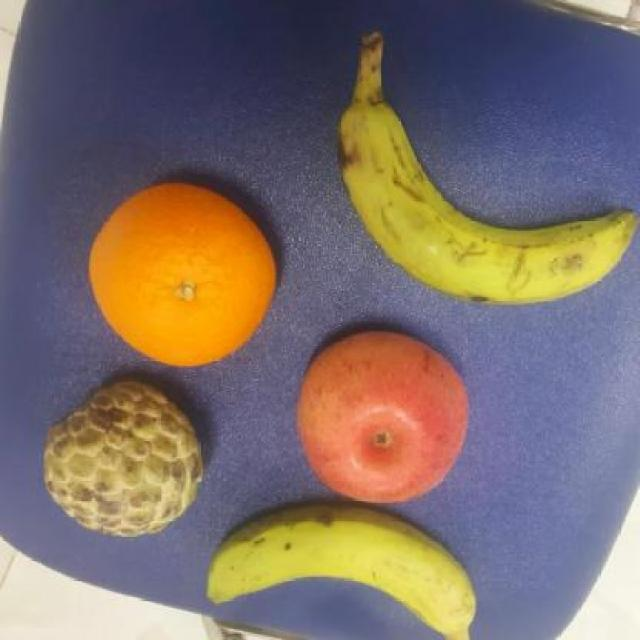apple: (298, 332, 470, 506)
banana: (336, 30, 639, 308), (201, 506, 488, 640)
oren: (91, 182, 278, 367)
sugar apple: (46, 382, 203, 540)
